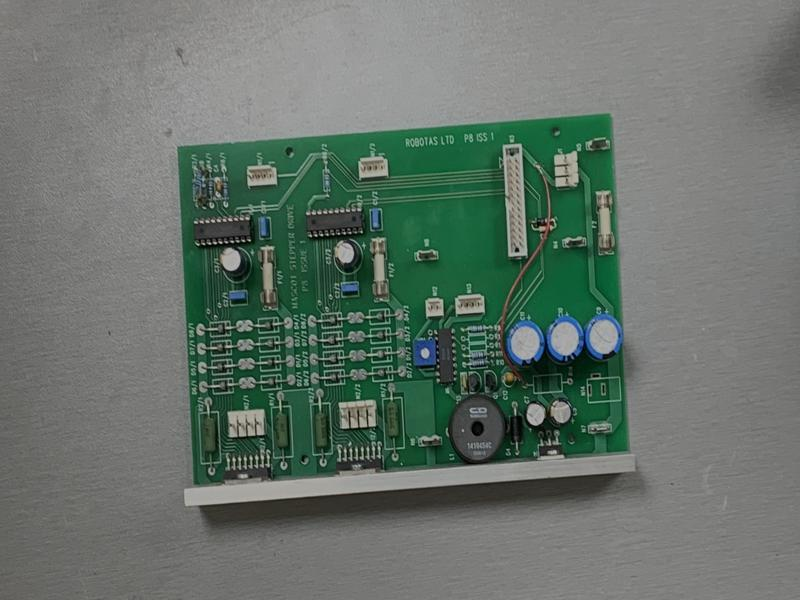Capacitor: (502, 317, 546, 371), (583, 311, 624, 366), (543, 314, 582, 366), (331, 238, 363, 274), (218, 246, 250, 280), (545, 397, 575, 431), (522, 400, 549, 431)
Diode: (509, 414, 524, 445), (211, 322, 232, 335), (371, 328, 389, 343), (531, 215, 554, 226), (212, 341, 231, 354), (326, 333, 341, 347), (373, 310, 388, 324), (262, 319, 276, 333), (374, 349, 390, 361), (263, 337, 277, 350), (265, 375, 279, 388), (327, 314, 341, 327), (328, 352, 342, 365), (215, 379, 230, 391), (328, 372, 343, 384), (375, 367, 390, 379), (215, 361, 229, 373), (265, 357, 280, 368)
Resistor: (465, 323, 489, 335), (467, 349, 489, 361), (468, 358, 490, 369), (535, 224, 557, 234), (322, 169, 331, 189), (207, 179, 215, 199), (222, 179, 229, 198)
